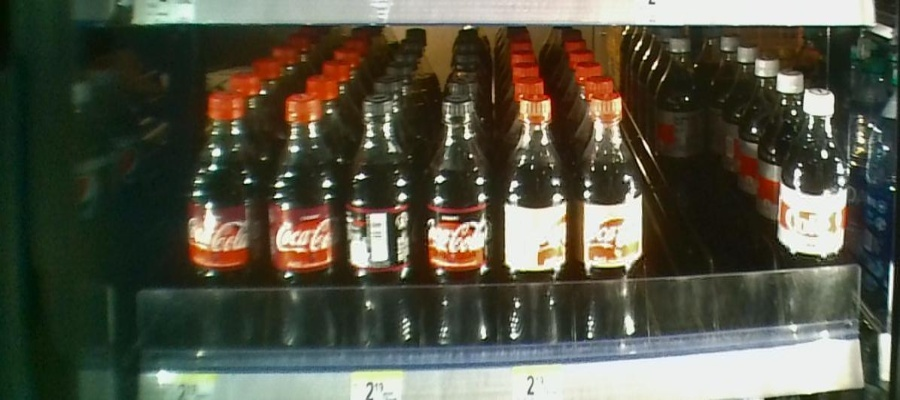bottle: (183, 87, 265, 357), (266, 93, 343, 359), (346, 93, 419, 356), (569, 92, 643, 349), (421, 94, 493, 358), (497, 87, 563, 358), (779, 86, 851, 332), (655, 37, 708, 177)
